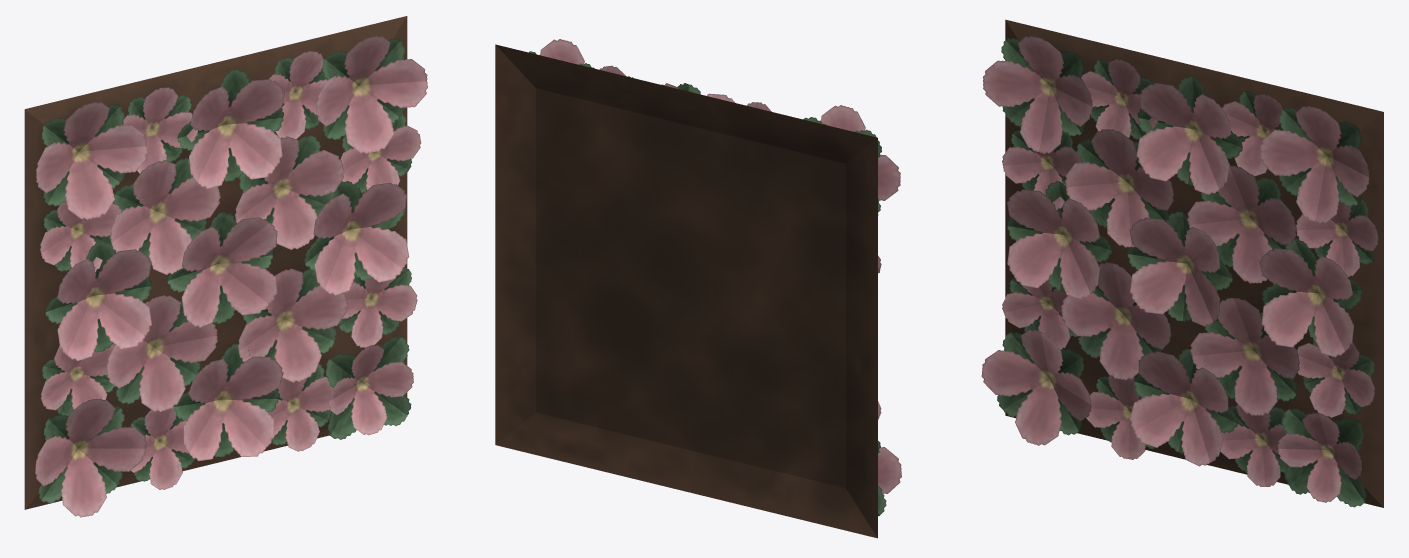
The picture shows the model from 3 angles, left to right: view 1: azimuth 30°, elevation 25°; view 2: azimuth 150°, elevation 25°; view 3: azimuth 330°, elevation 25°; orthographic projection.
Size of the model in its own units: 1.17 by 1.17 by 0.0909.
Materials: 1 (1 with a texture image).
